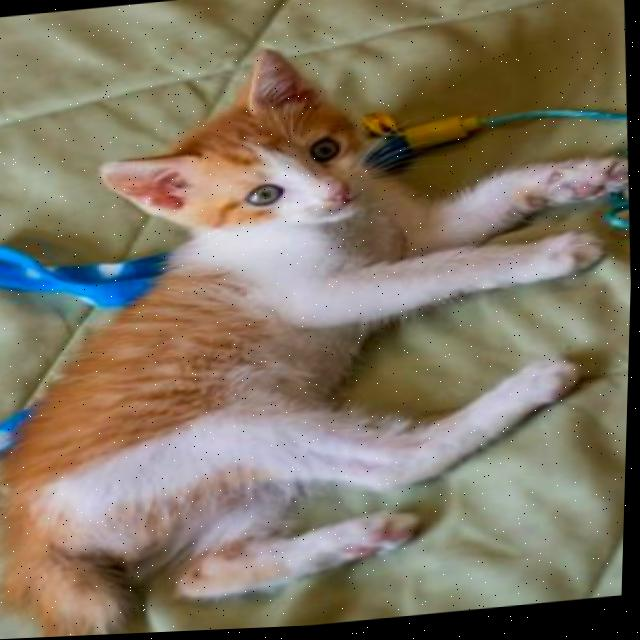American Bobtail: (0, 14, 639, 640)
